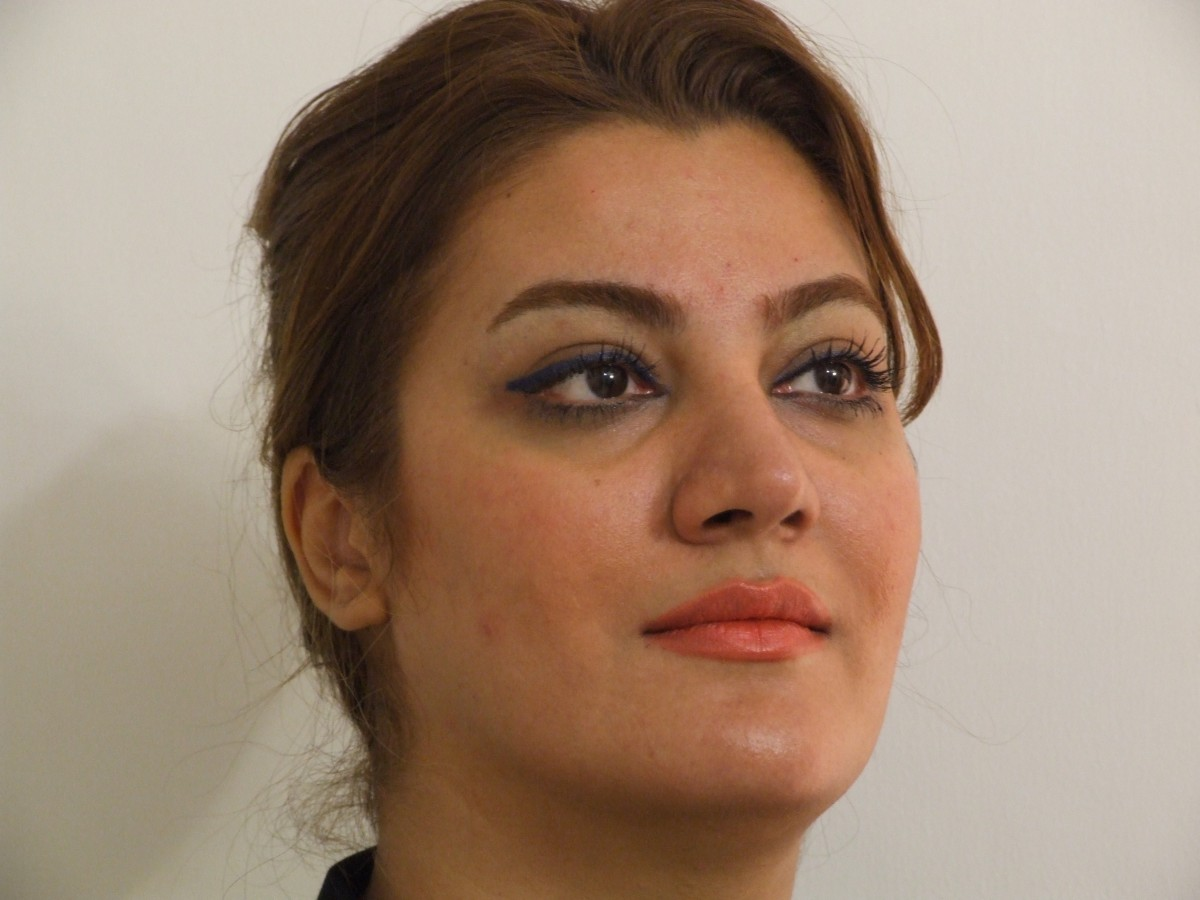neo: (584, 472, 610, 497)
occhiaia: (484, 400, 691, 478)
